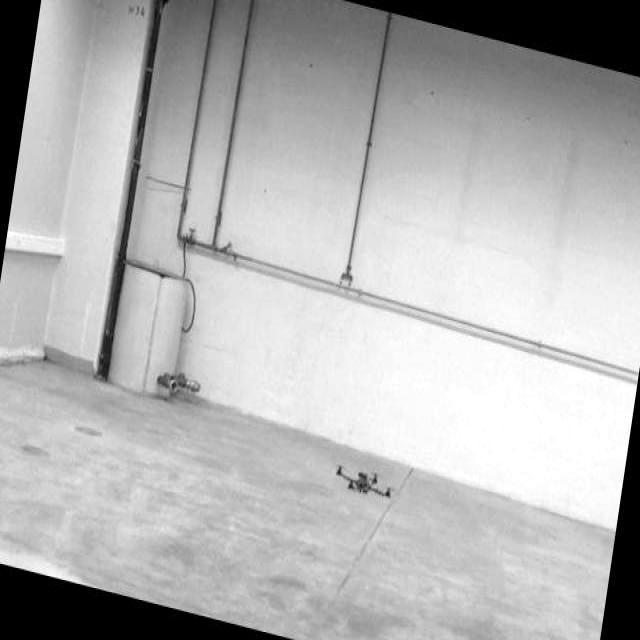drone: (331, 452, 396, 511)
